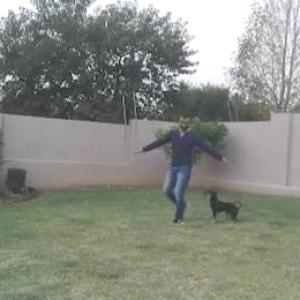land: (152, 111, 236, 211)
